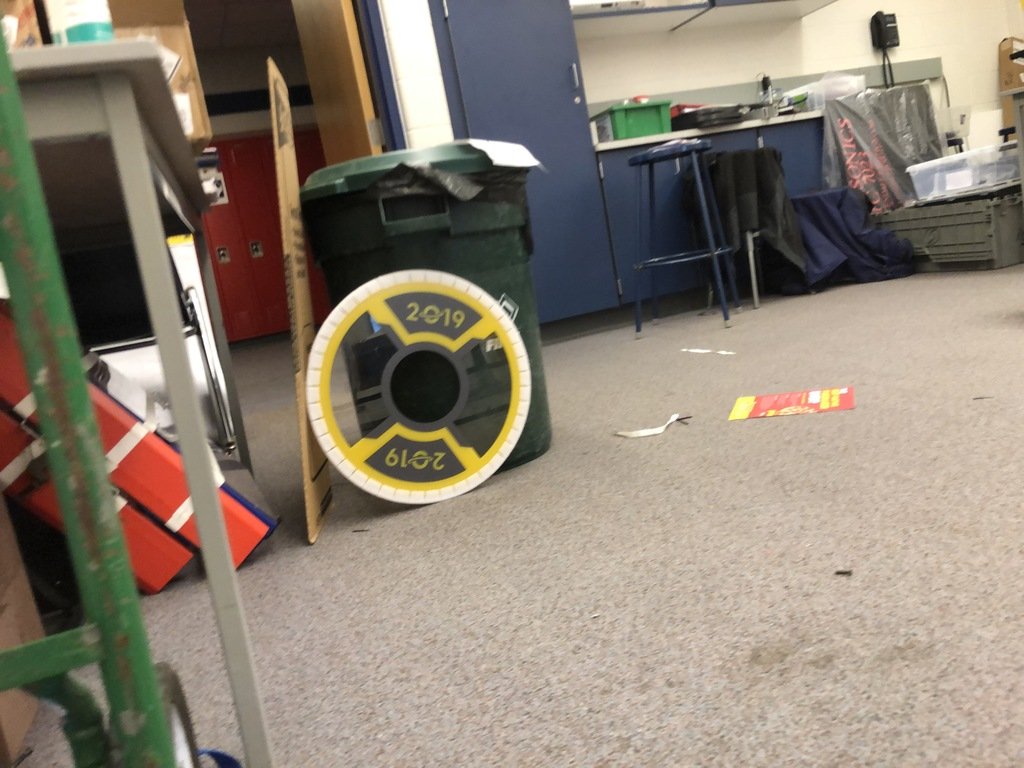hatch_panel: (301, 256, 556, 522)
